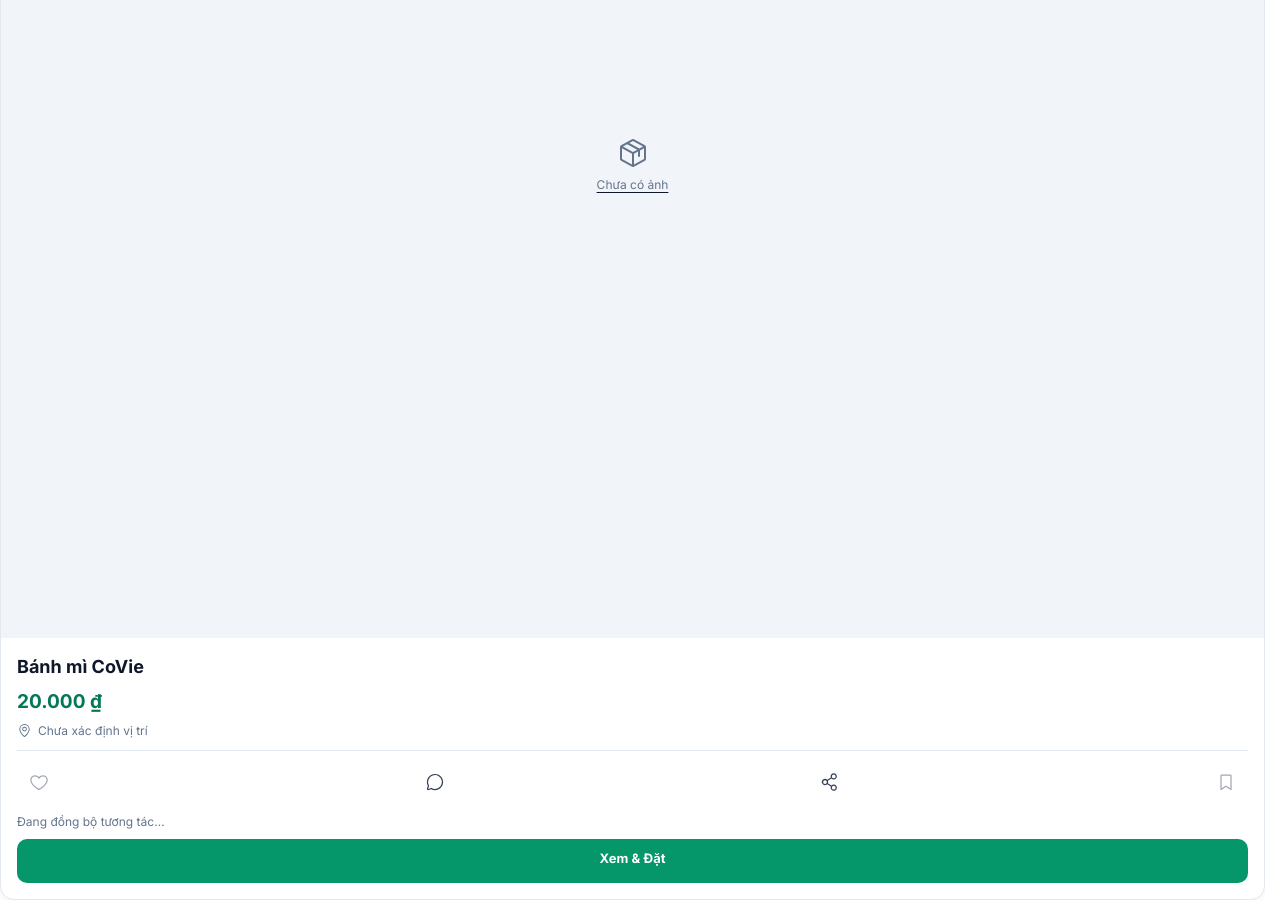
Test case: Phase 2 social card › allows reporting a foreign comment only after the server confirms the report
(page scrolled)
Step 1. Click the button named "Bình luận Bánh mì CoVie" → (435, 782), box [413,760,457,804]
(page scrolled)
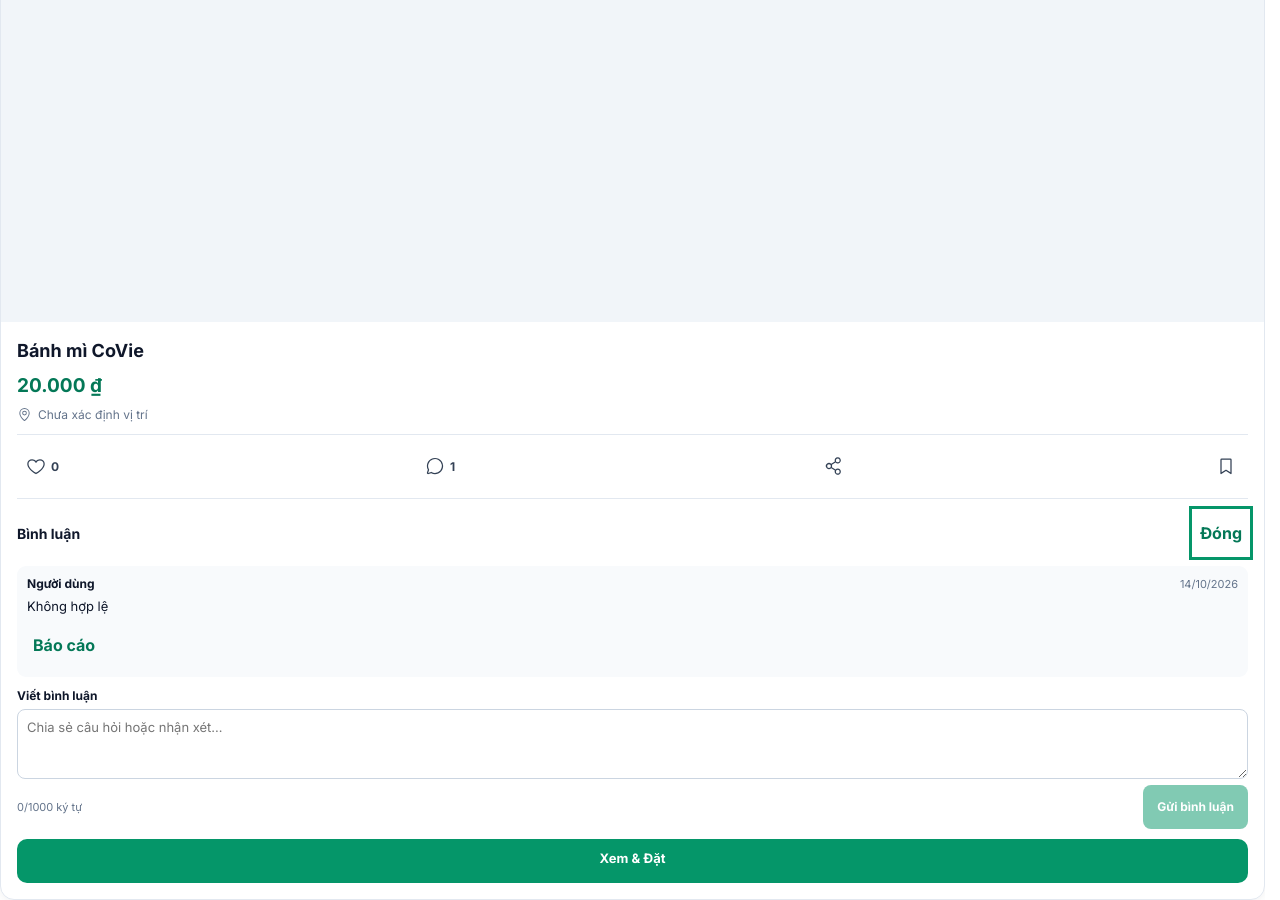
Step 2. Click the button with aria-label "Báo cáo bình luận" → (64, 645), box [27,623,101,667]
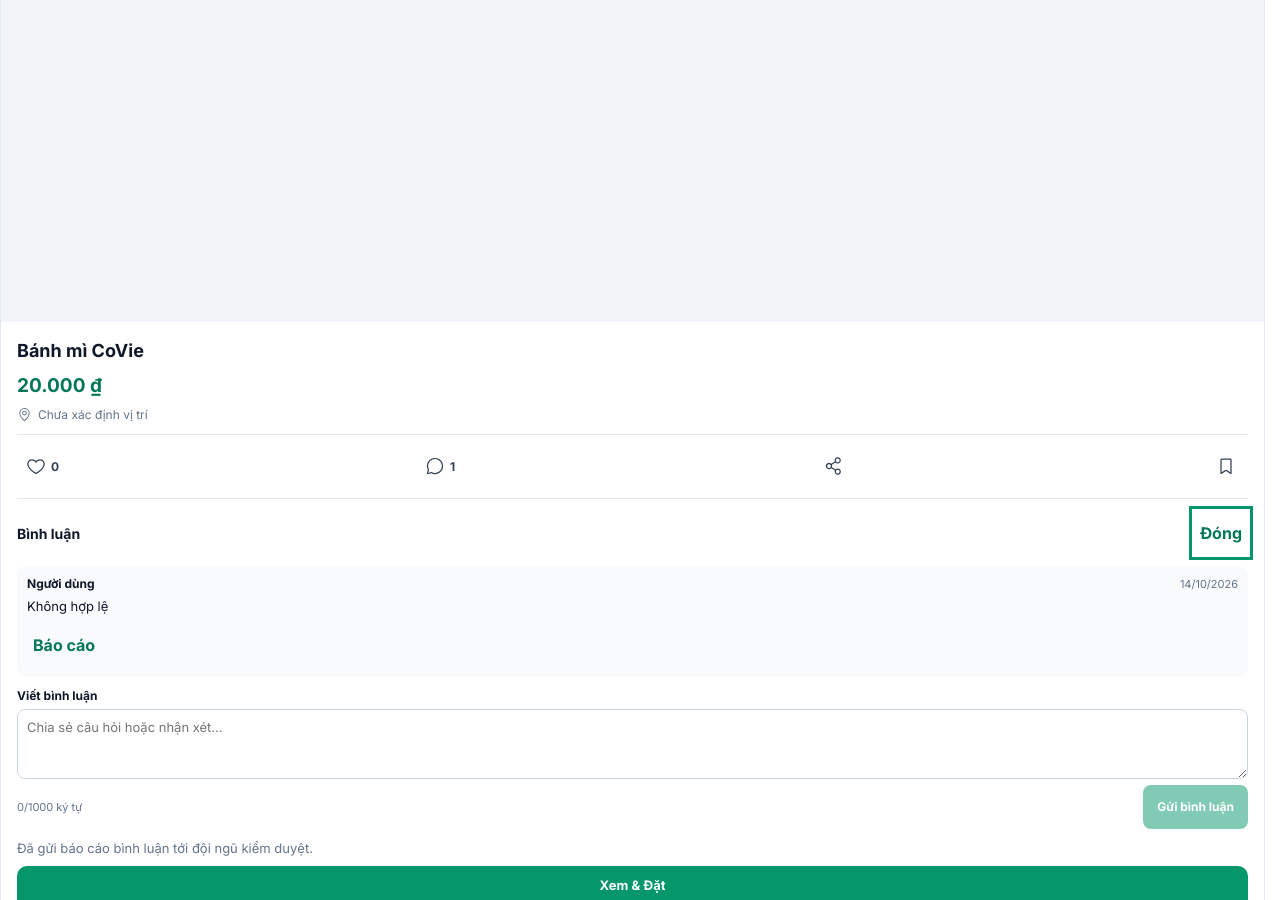
Now the text "Đã gửi báo cáo bình luận tới đội ngũ kiểm duyệt." is shown, box [17,840,313,856]
